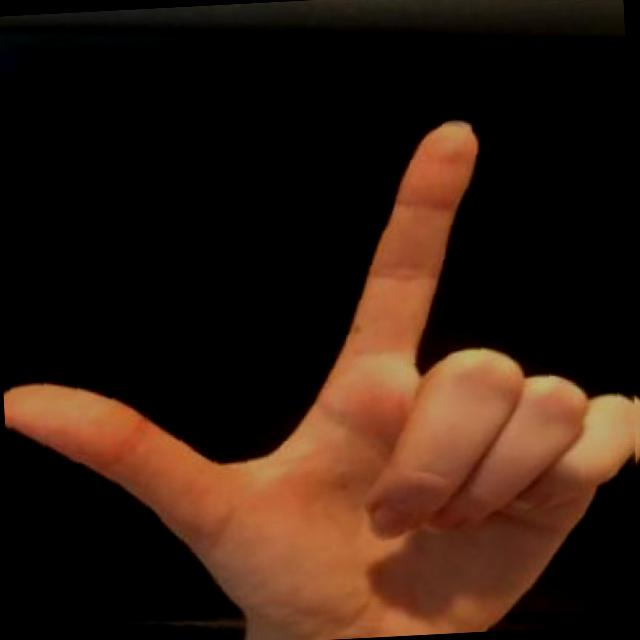L: (0, 57, 640, 640)
